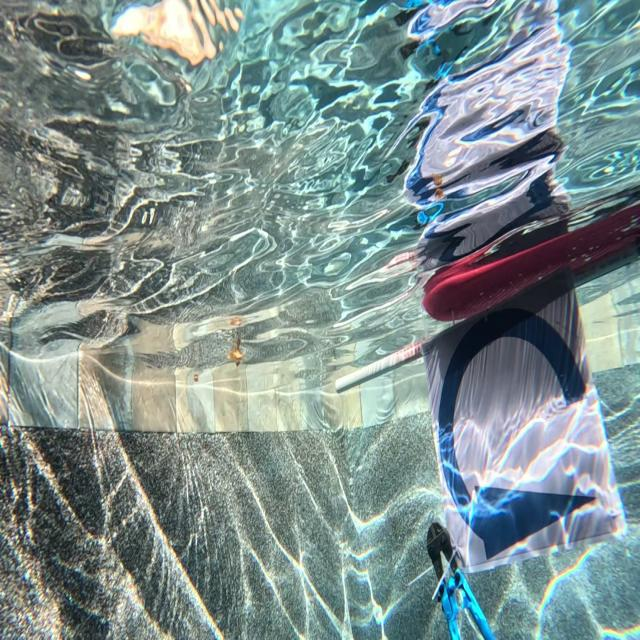blue_side: (436, 311, 586, 546)
